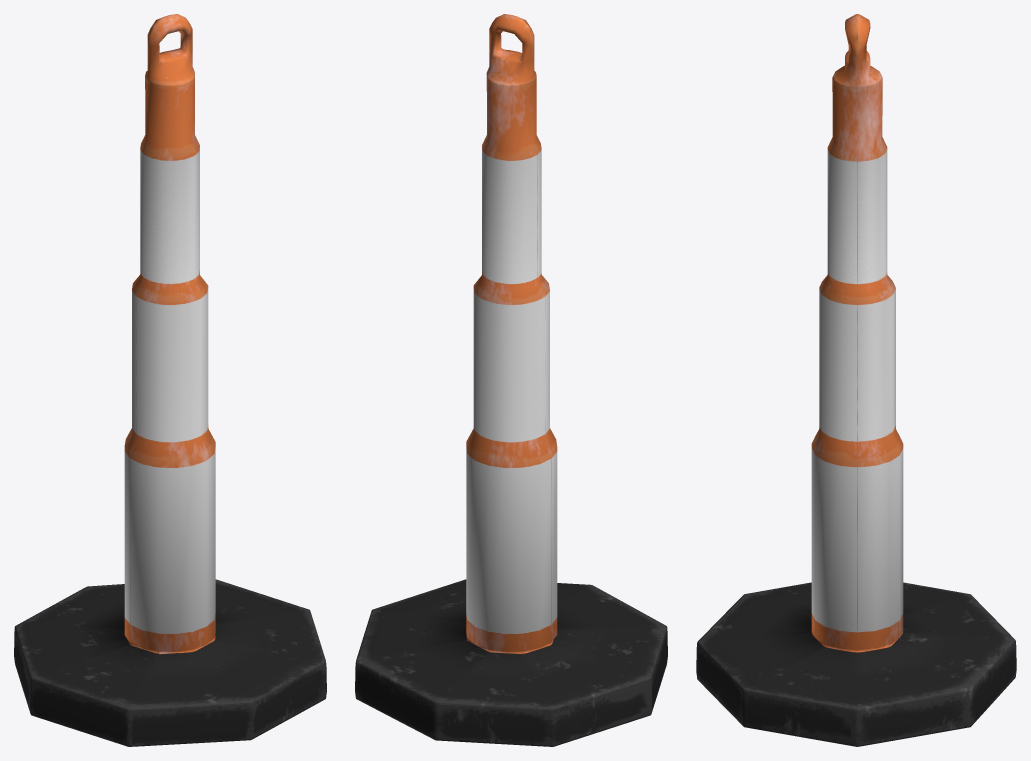
File: StackerCone.fbx
The picture shows the model from 3 angles, left to right: view 1: azimuth 30°, elevation 25°; view 2: azimuth 150°, elevation 25°; view 3: azimuth 270°, elevation 25°; orthographic projection.
Parts seen in each view (by area): view 1: StackerCone; view 2: StackerCone; view 3: StackerCone.
Part boxes in pixels (x1,y1,x2,y2): StackerCone: (14,14,326,746); StackerCone: (355,14,667,746); StackerCone: (696,14,1016,746).
Bounding box in the file's own units: 0.7002 × 1.59 × 0.6962.
